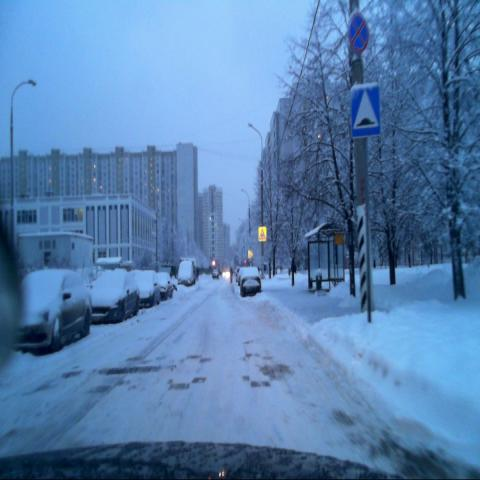5_20: (349, 79, 380, 138)
